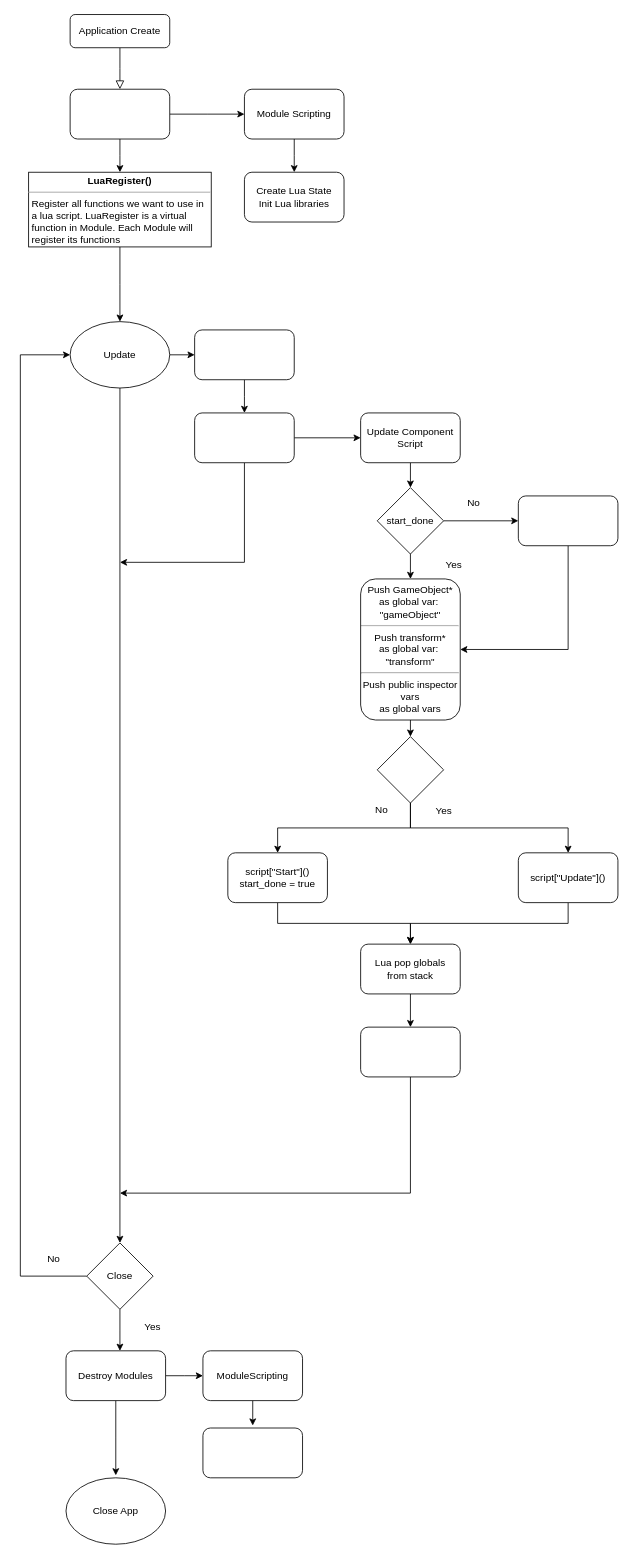
Some shapes in this 632 by 1559 pixel diagram are drawn without their labels. Here are the shapes that lost their labels. From the top down, the box of each, then its label:
(69, 88, 170, 139): Create Modules
(194, 329, 294, 380): Update GameObjects
(194, 412, 294, 463): Update Components
(518, 495, 618, 546): Compile Script
(376, 736, 444, 803): start done
(360, 1026, 460, 1077): Update Inspector vars
(202, 1427, 303, 1478): Close Lua State
